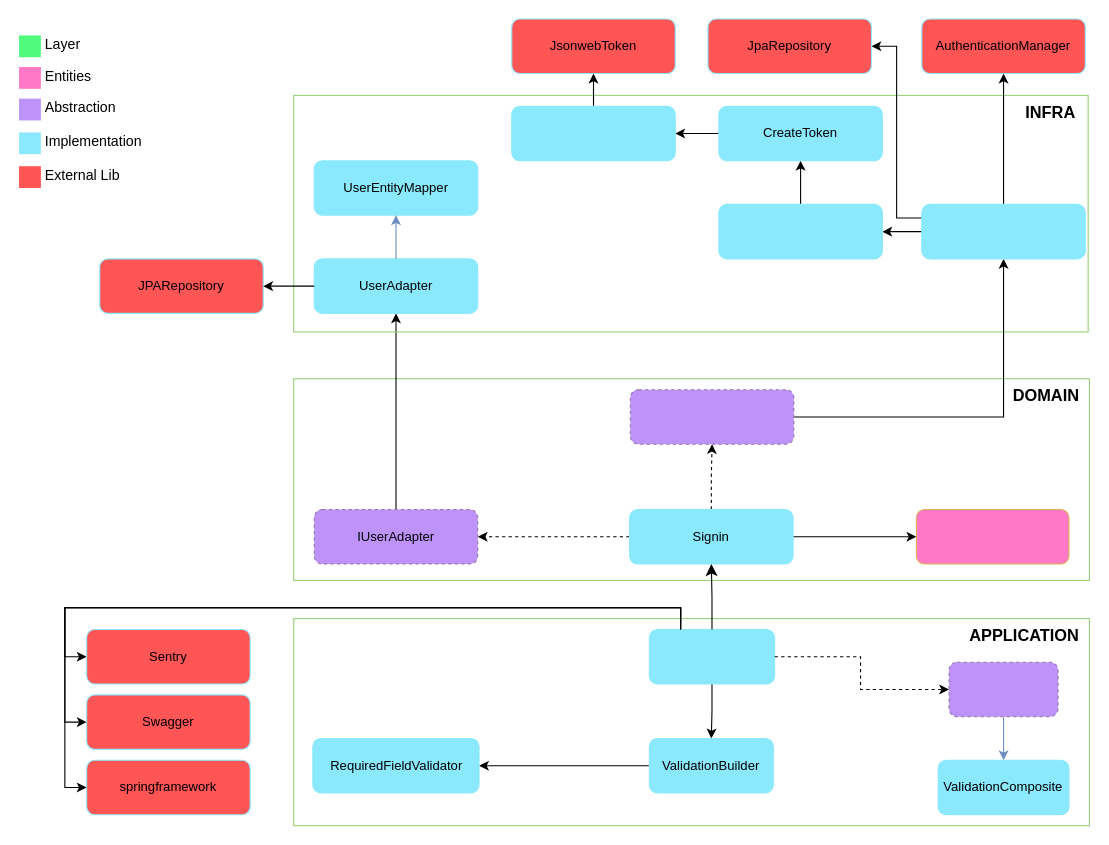
The diagram is 1109 pixels wide and 845 high, and some of its shapes have lost their labels. The box of each missing label's shape, as (x1, y1, x2, y2) in pixels:
AuthAdapter: (921, 203, 1085, 259)
Controller: (948, 661, 1058, 717)
GenerateToken: (718, 203, 882, 259)
IAuthAdapter: (629, 389, 794, 444)
SigninController: (648, 628, 775, 684)
SignKey: (511, 105, 675, 161)
UnauthorizedException: (915, 508, 1069, 564)
